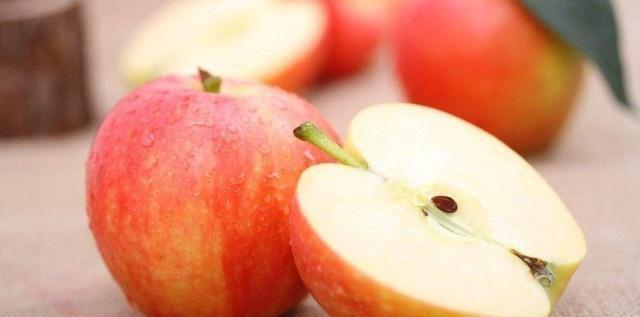apple: (292, 97, 585, 317), (85, 71, 345, 316), (385, 1, 586, 151)
